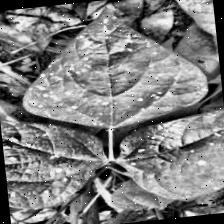Bean Rust: (12, 2, 212, 139), (0, 94, 110, 211), (117, 95, 224, 206)
